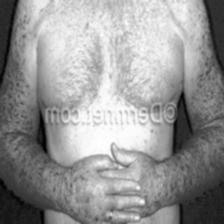Potentially Malignant Skin Tumors: (198, 69, 218, 102), (2, 110, 20, 141)
